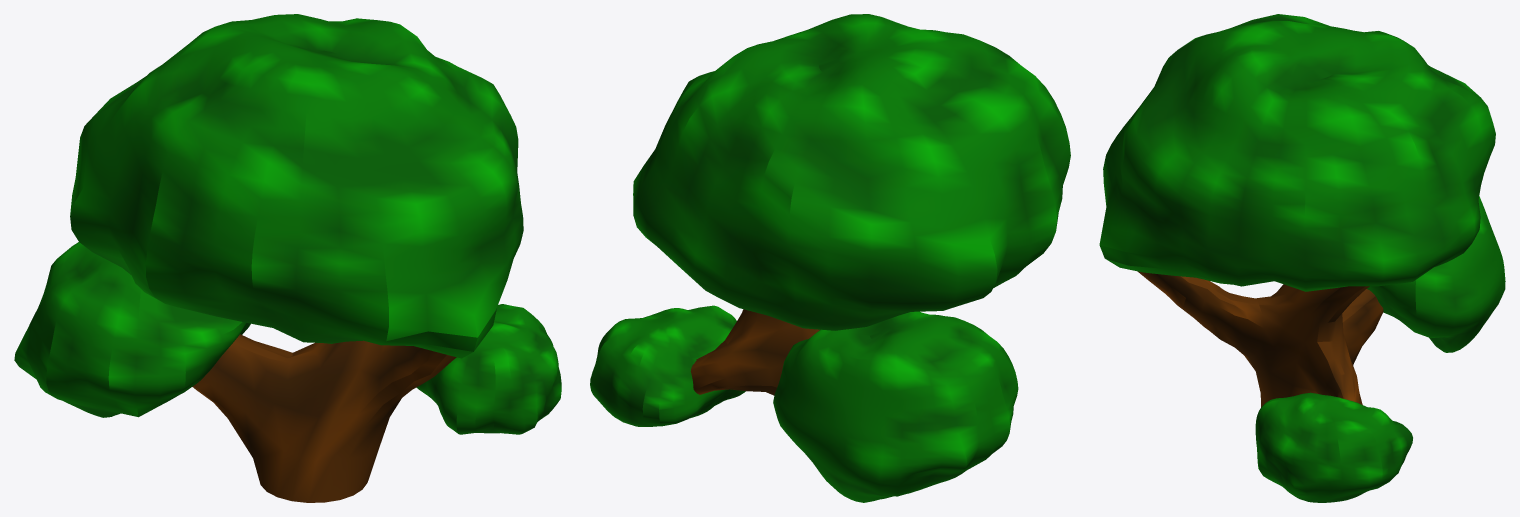
File: TreeTop.fbx
3 views of the same model, side by side, from view 1: azimuth 30°, elevation 25°; view 2: azimuth 150°, elevation 25°; view 3: azimuth 270°, elevation 25° (orthographic). The views are drawn at different scales.
Visible parts, largest first — view 1: TreeTop; view 2: TreeTop; view 3: TreeTop.
Boxes of the visible parts, x1,y1,x2,y2 form: TreeTop: [14, 14, 561, 502]; TreeTop: [590, 14, 1070, 502]; TreeTop: [1099, 14, 1505, 502].
Bounding box in the file's own units: 940 × 835 × 833.
